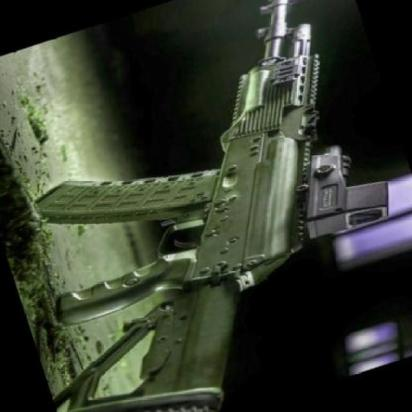Gun: (35, 0, 385, 412)
